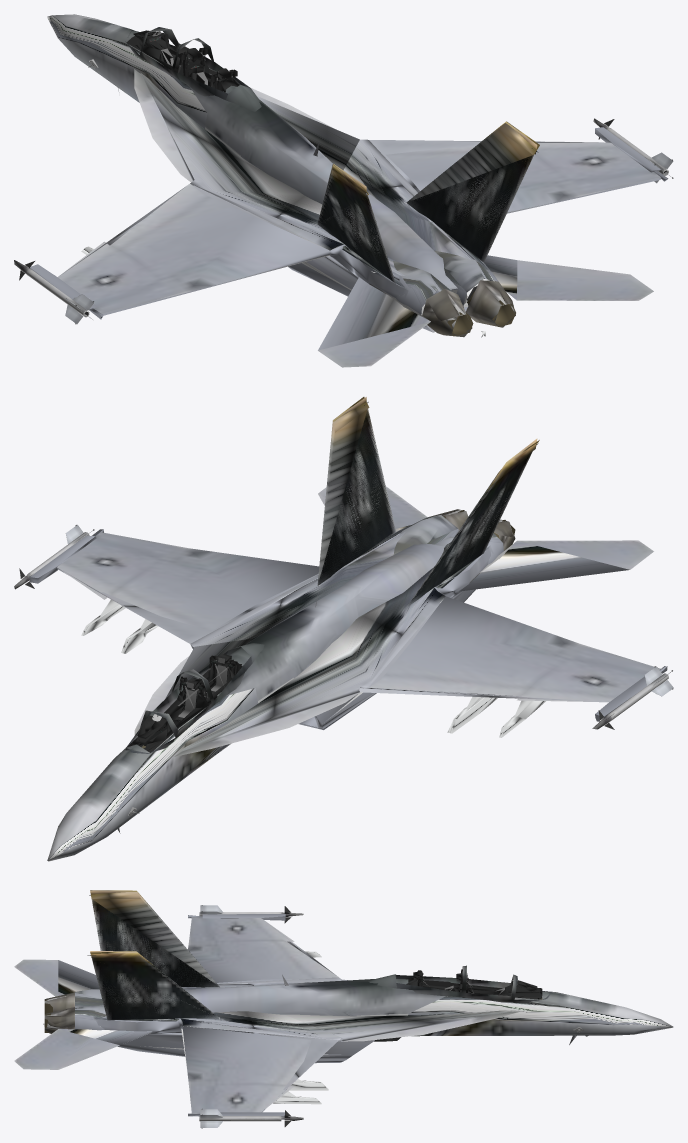
The picture shows the model from 3 angles, top to bottom: view 1: azimuth 30°, elevation 25°; view 2: azimuth 150°, elevation 25°; view 3: azimuth 270°, elevation 25°; orthographic projection. The views are drawn at different scales.
Parts seen in each view (by area): view 1: body|Fa18_R, body|Fa18_L, body|Fa18_engine, body|Darker_paint, body|F15_R.001, body|engine_color; view 2: body|Fa18_R, body|Fa18_L, body|Base_paint, body|Darker_paint, body|F15_R.001, body|Fa18_engine; view 3: body|Fa18_R, body|Fa18_L, body|Darker_paint, body|Fa18_engine, body|Base_paint, body|F15_R.001.
Boxes of the visible parts, x1,y1,x2,y2 form: body|Fa18_R: [14, 14, 673, 367]; body|Fa18_L: [60, 73, 660, 350]; body|Fa18_engine: [422, 280, 515, 337]; body|Darker_paint: [133, 30, 538, 193]; body|F15_R.001: [26, 128, 668, 317]; body|engine_color: [447, 291, 515, 336]; body|Fa18_R: [14, 397, 673, 861]; body|Fa18_L: [57, 397, 629, 752]; body|Base_paint: [81, 599, 545, 737]; body|Darker_paint: [133, 402, 538, 752]; body|F15_R.001: [27, 532, 668, 719]; body|Fa18_engine: [428, 509, 515, 550]; body|Fa18_R: [14, 890, 673, 1127]; body|Fa18_L: [58, 890, 516, 1112]; body|Darker_paint: [87, 895, 588, 1041]; body|Fa18_engine: [44, 992, 74, 1033]; body|Base_paint: [43, 951, 408, 1104]; body|F15_R.001: [199, 912, 281, 1121].
Bounding box in the file's own units: 13.63 × 3.83 × 18.07.
Materials: 28 (8 with a texture image).
